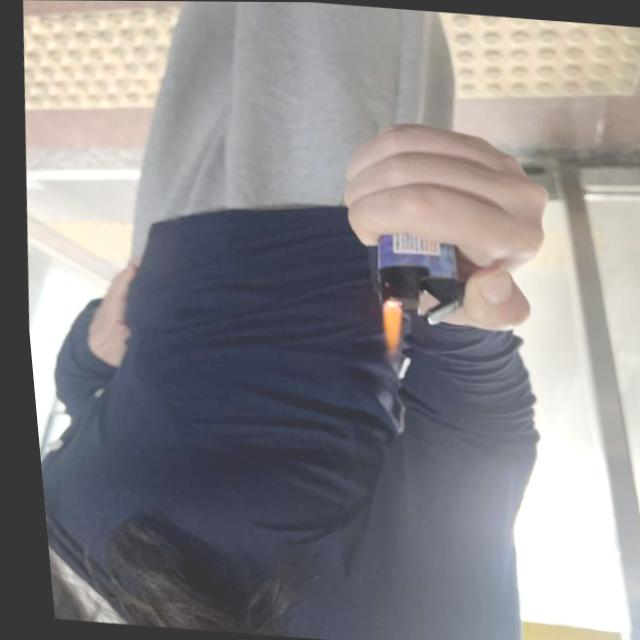Fire: (369, 303, 400, 349)
